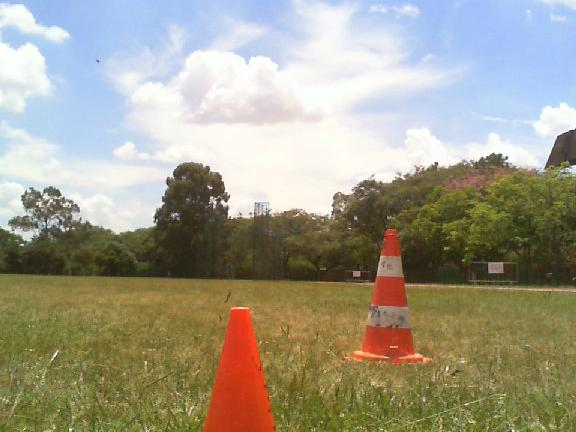0 cone: (344, 229, 432, 366), (196, 307, 282, 432)
